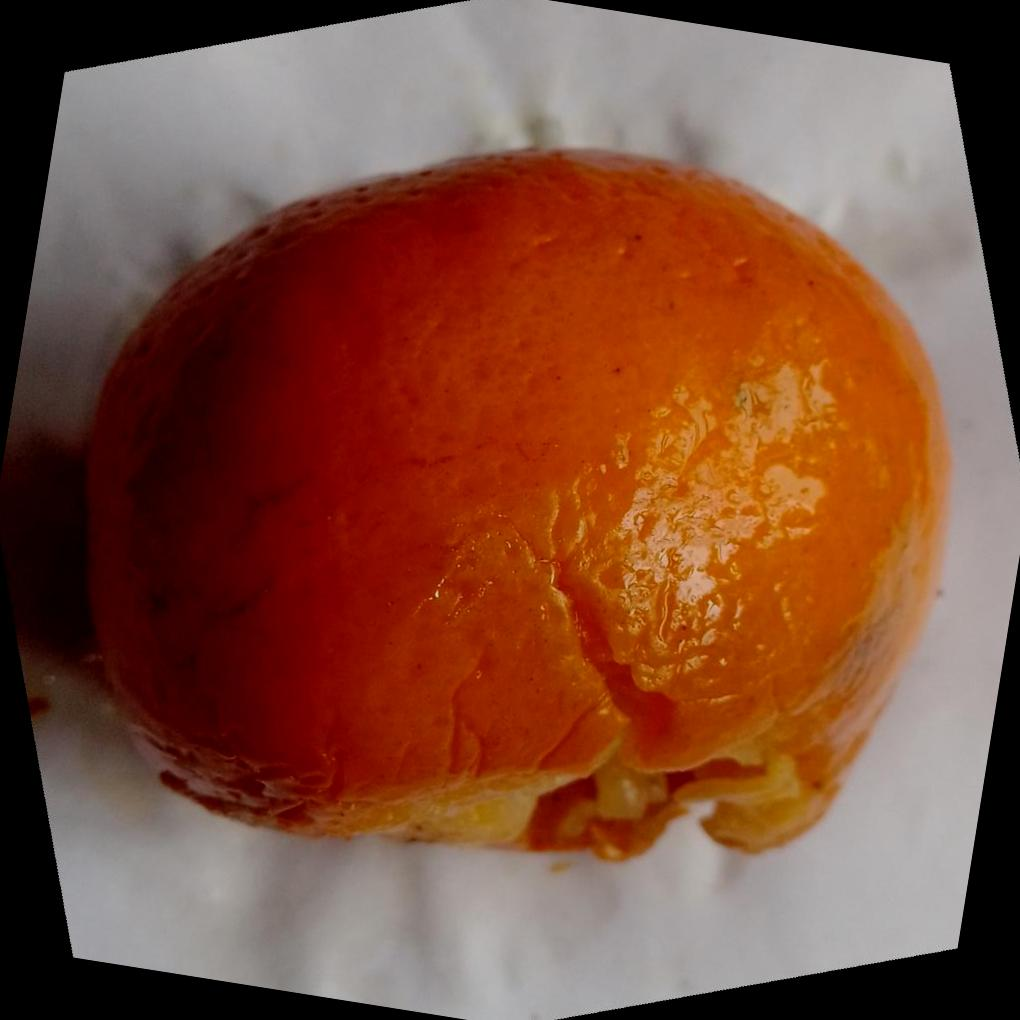FreshOrange: (77, 145, 950, 864)
